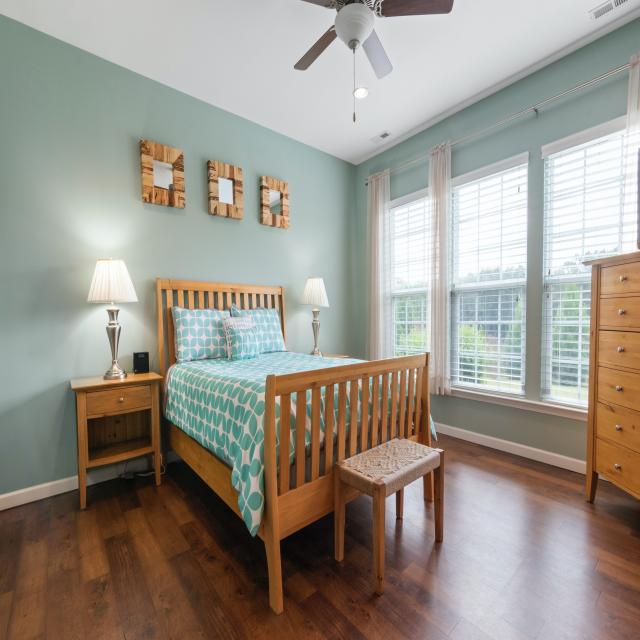floor: (0, 431, 640, 640)
wall: (0, 13, 357, 513), (356, 17, 640, 360), (451, 67, 629, 402), (429, 393, 588, 475), (140, 139, 185, 209), (86, 455, 148, 487), (390, 156, 429, 201)
